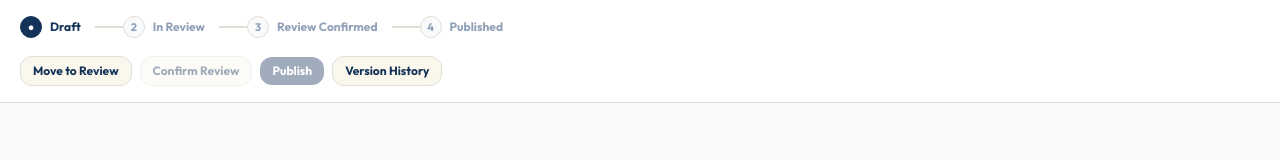
PublishLifecycleBar › Publish shows a pending label and is disabled while the request is in flight
Click the button "Move to Review": x=76, y=71 [20,56,132,86]
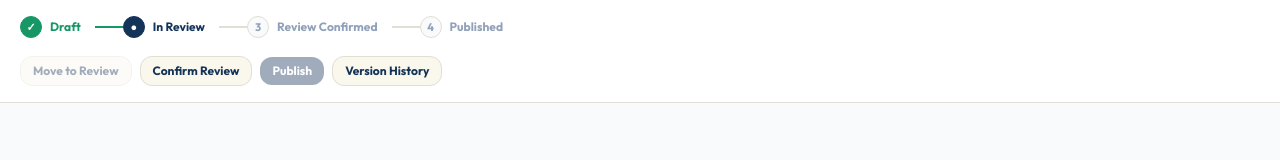
Expected: the button "Confirm Review" is enabled
Click the button "Confirm Review": x=196, y=71 [140,56,252,86]
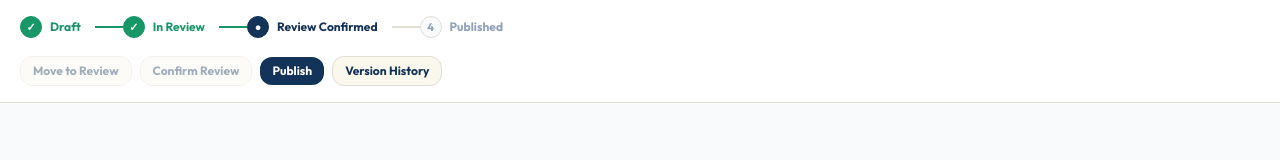
Expected: the button "Publish" is enabled
Click the button "Publish": x=292, y=71 [260,57,324,85]
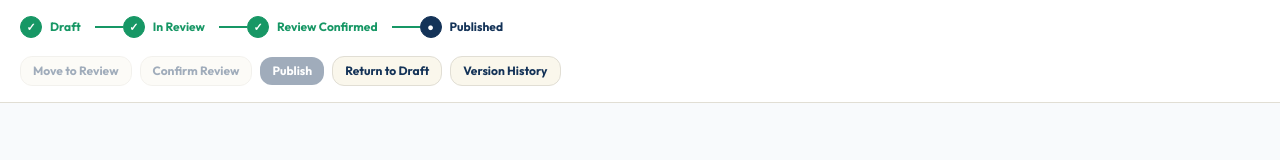
Expected: the button named "Publishing…" is disabled, [260,57,324,85]
